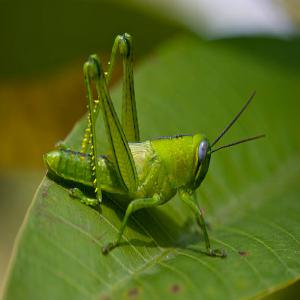locust: (30, 55, 268, 239)
